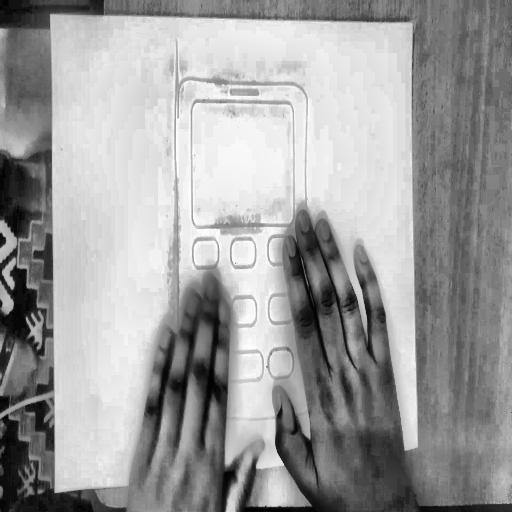bottom_left: (52, 487, 59, 497)
bottom_right: (415, 441, 420, 450)
mobile: (167, 35, 320, 430)
top_left: (47, 10, 54, 22)
top_right: (410, 19, 415, 28)
